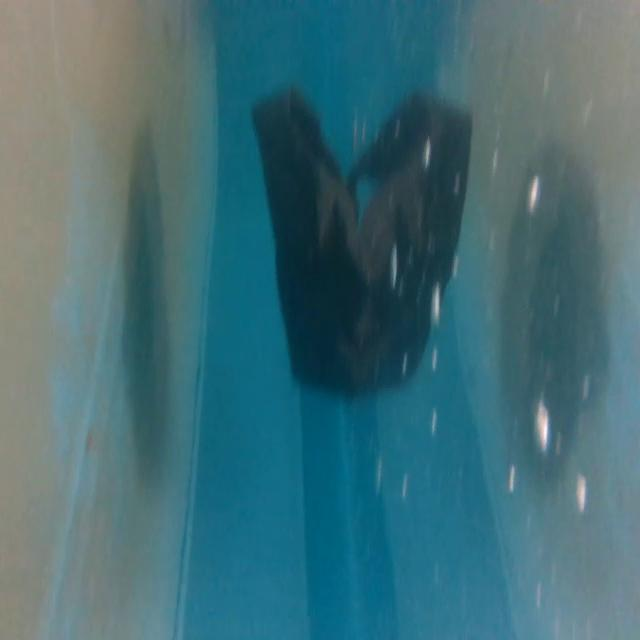plastic bags: (239, 77, 476, 400)
